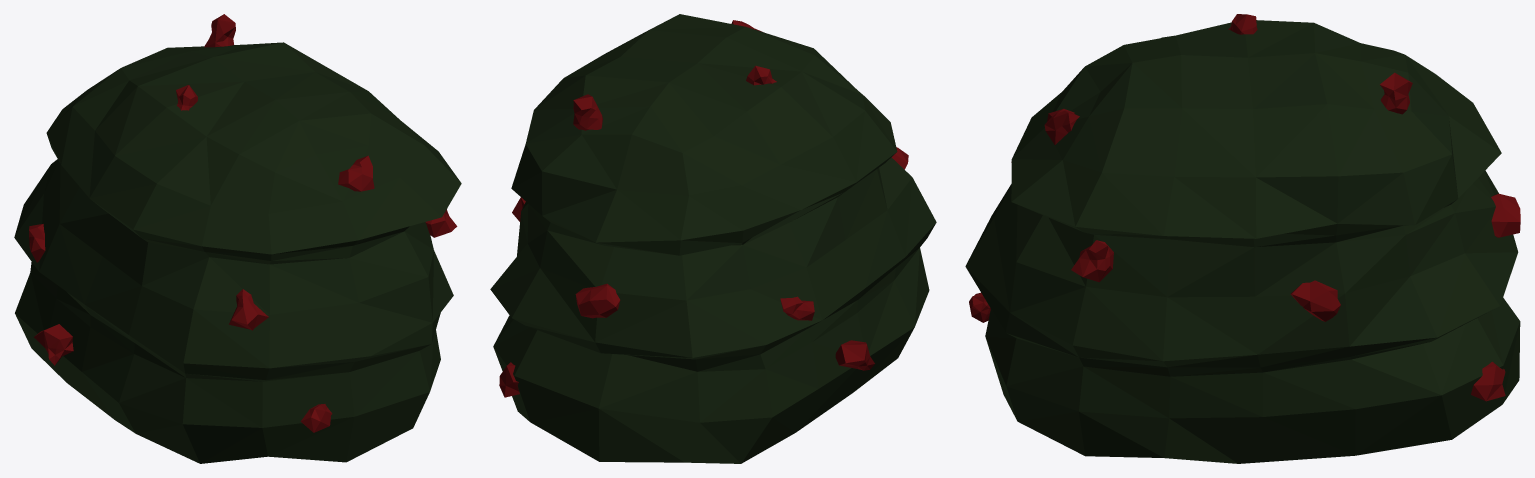
Rendered from BushBerries_1.obj.
3 renders of one model, left to right at view 1: azimuth 30°, elevation 25°; view 2: azimuth 150°, elevation 25°; view 3: azimuth 270°, elevation 25°, orthographic. The views are drawn at different scales.
Parts seen in each view (by area): view 1: BushBerries_1; view 2: BushBerries_1; view 3: BushBerries_1.
Part boxes in pixels (box(x1,y1,x2,y2)): BushBerries_1: box(14, 14, 461, 463); BushBerries_1: box(490, 14, 936, 463); BushBerries_1: box(965, 14, 1520, 463).
Size of the model in its own units: 1.39 by 1.28 by 1.72.
